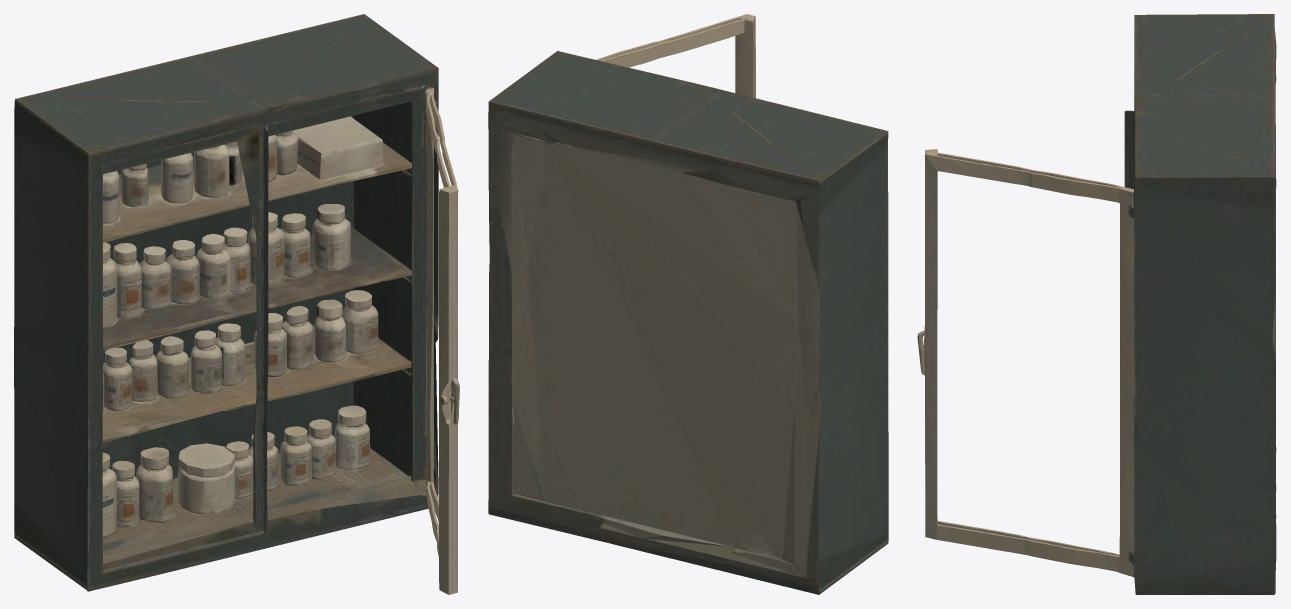
Rendered from armadietto_A.glb.
3 views of the same model, side by side, from view 1: azimuth 30°, elevation 25°; view 2: azimuth 150°, elevation 25°; view 3: azimuth 270°, elevation 25° (orthographic). The views are drawn at different scales.
Visible parts, largest first — view 1: Mesh_0; view 2: Mesh_0; view 3: Mesh_0.
Boxes of the visible parts, bbox=[...] form: Mesh_0: bbox=[14, 14, 459, 594]; Mesh_0: bbox=[488, 14, 888, 594]; Mesh_0: bbox=[917, 14, 1276, 594].
Size of the model in its own units: 0.753 by 0.9 by 0.6995.
1 material, 1 textured.
